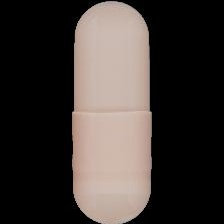61786-244: (0, 0, 224, 224)
